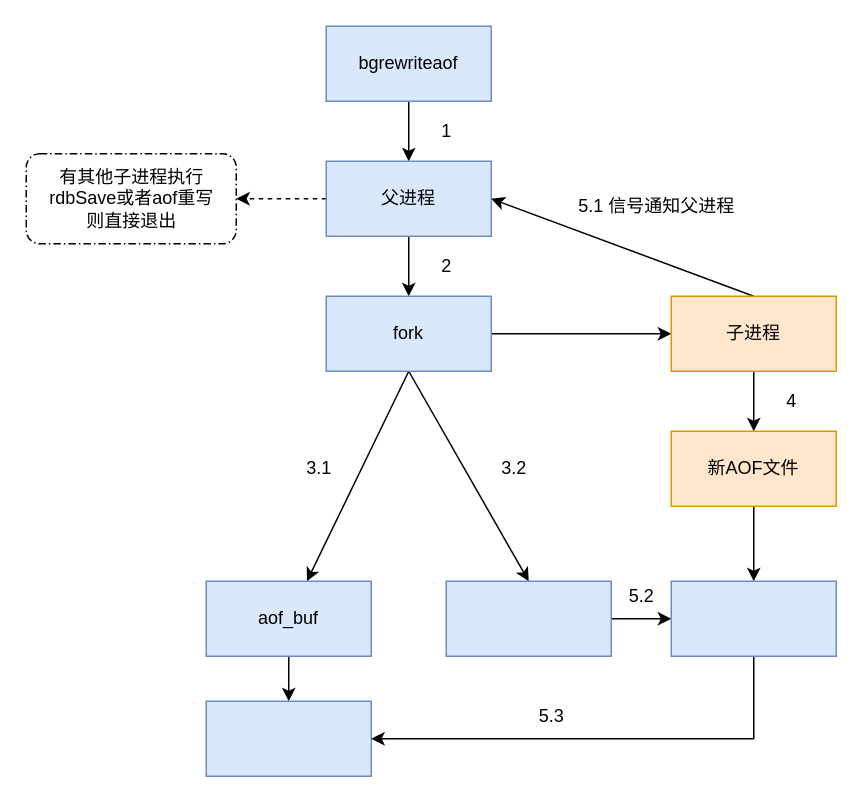
The diagram is 863 pixels wide and 803 high, and some of its shapes have lost their labels. Here are the shapes that lost their labels. From the top down, the box of each, then its label:
(445, 580, 611, 656): aof_rewrite_buf
(670, 580, 836, 656): 写入aof_rewrite_buf内容的AOF文件
(205, 700, 371, 776): 旧AOF文件
